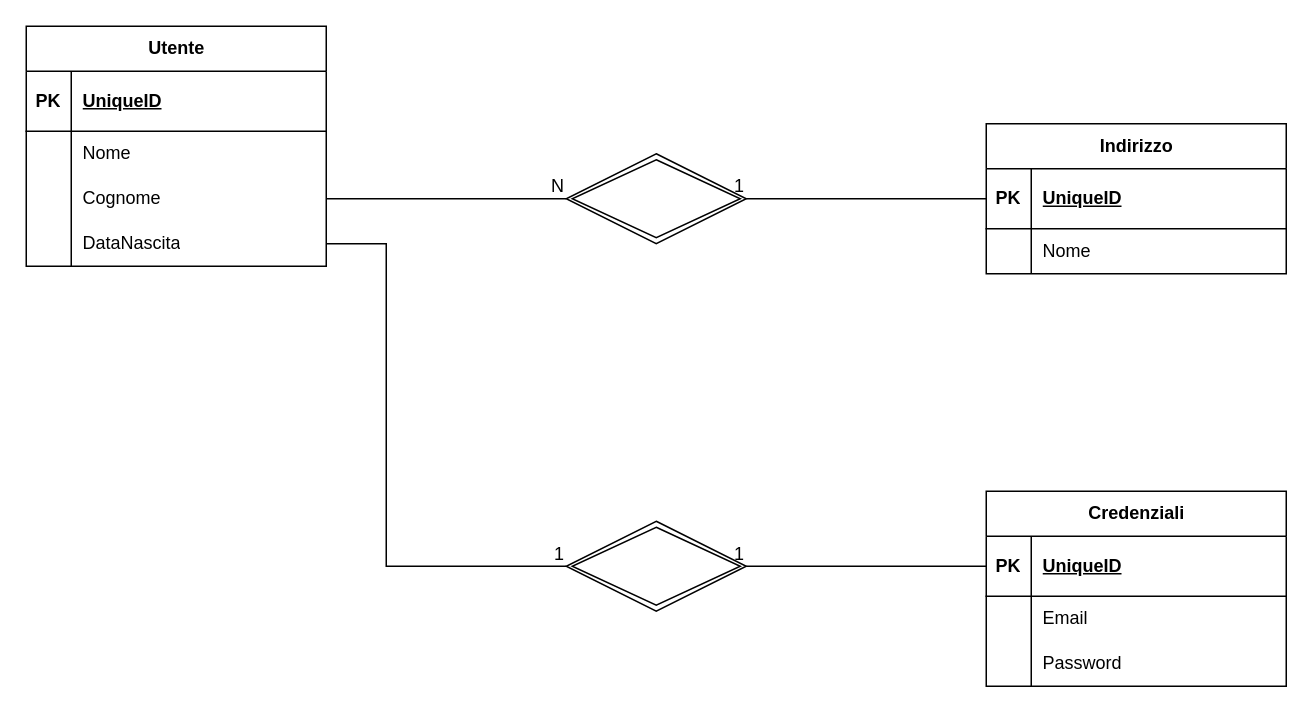
Image size: 1313x713. Some labels were removed from this diagram. The shapes that lost their labels are listed below. From the top down, each one's centre as x and y in pixels, then its label:
At (x=655, y=198): "Abita".
At (x=655, y=565): "Relationship".
